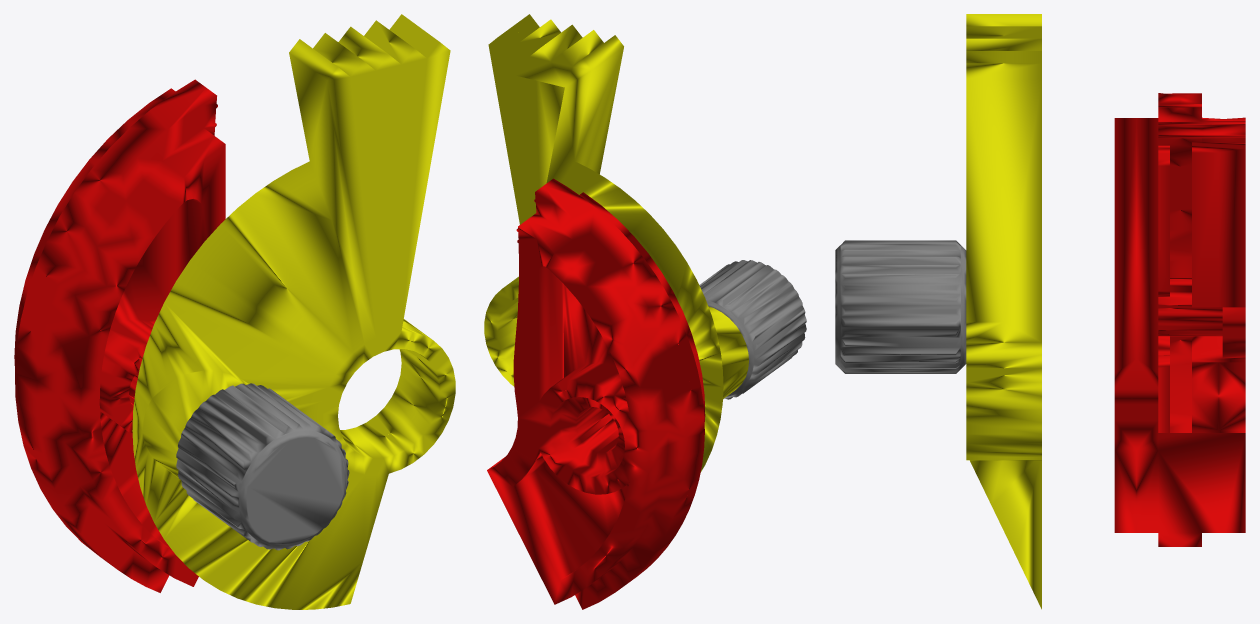
File: bennettinsert_right_red_deco.obj
3 views of the same model, side by side, from view 1: azimuth 30°, elevation 25°; view 2: azimuth 150°, elevation 25°; view 3: azimuth 270°, elevation 25° (orthographic). The views are drawn at different scales.
Size of the model in its own units: 25.23 by 43.32 by 28.2.
